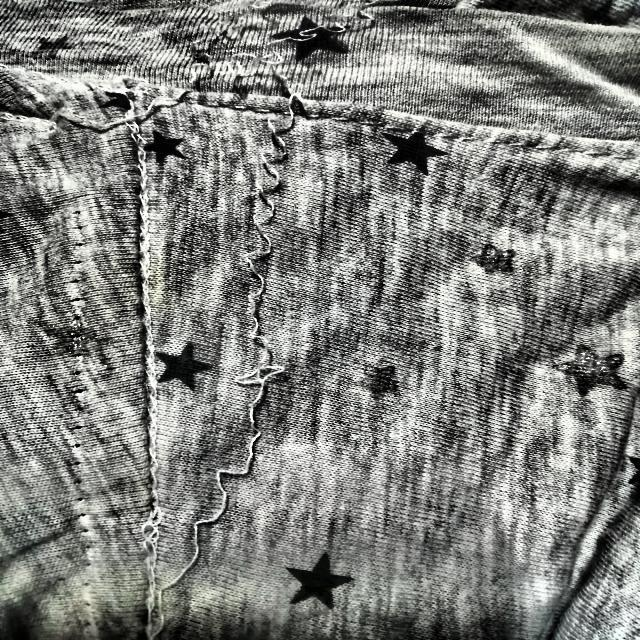gray stitch: (219, 71, 322, 463), (58, 144, 107, 475), (93, 500, 233, 602), (172, 24, 295, 69)
